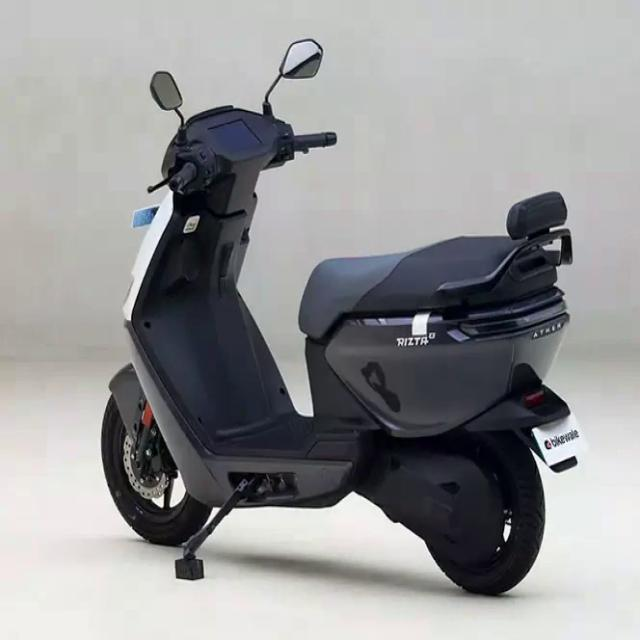objects: (92, 29, 601, 612)
